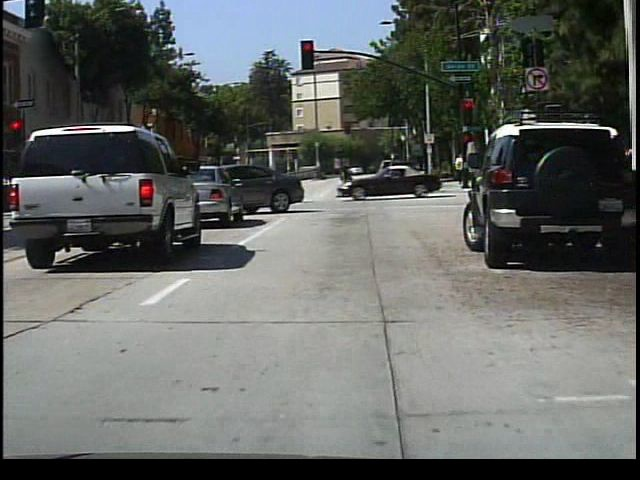person: (455, 149, 472, 188), (342, 158, 351, 200)
